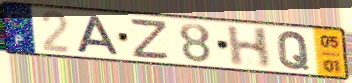2: (39, 10, 73, 55)
8: (177, 21, 214, 65)
A: (76, 15, 123, 57)
H: (225, 25, 273, 70)
Q: (276, 30, 311, 72)
Z: (130, 18, 171, 62)
